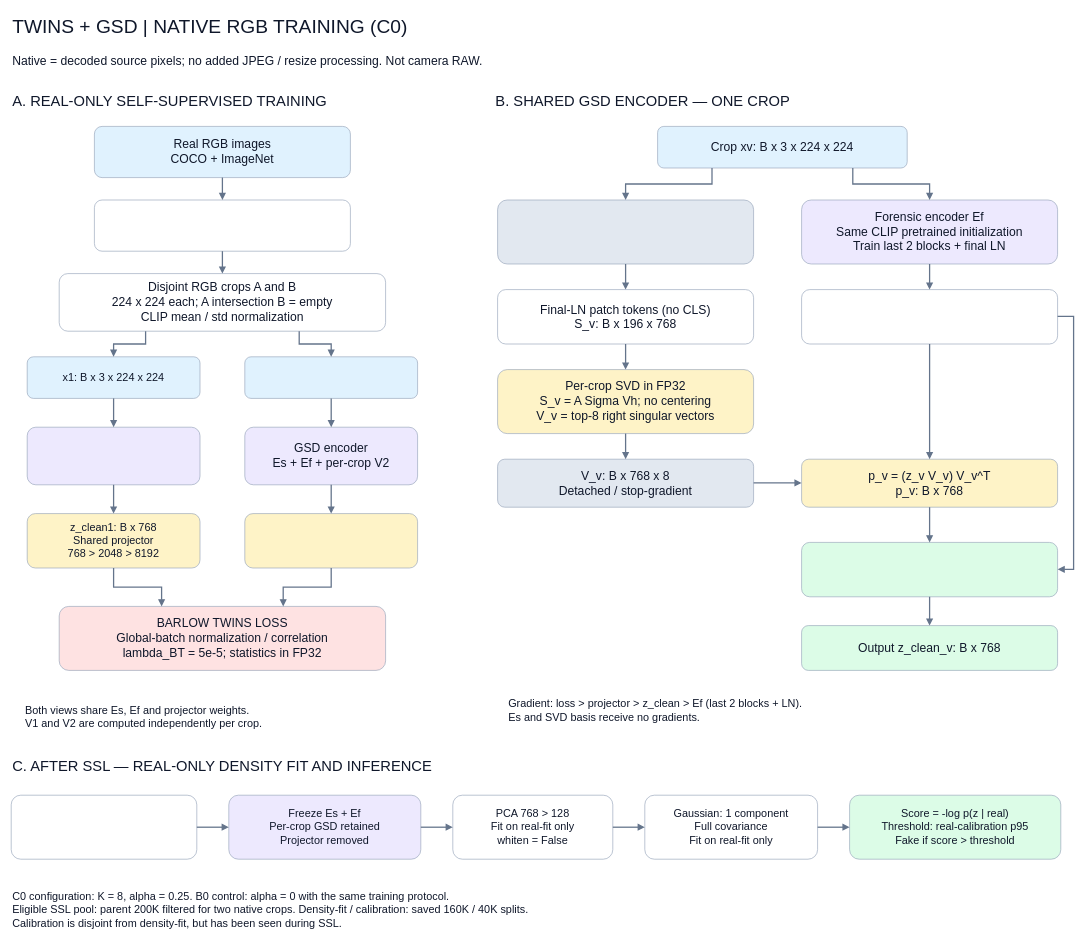
Image size: 1091x947. Some labels were removed from this diagram. Here are the shapes that lost their labels. From the top down, the centre of each, then its label:
point 222,225: Shared rotation / flips Native resolution retained
point 625,231: Semantic encoder Es CLIP ViT-B/16 Frozen / eval / no_grad
point 929,316: Final-LN CLS before visual projection z_v: B x 768
point 331,377: x2: B x 3 x 224 x 224
point 113,456: GSD encoder Es + Ef + per-crop V1
point 331,540: z_clean2: B x 768 Shared projector 768 > 2048 > 8192
point 929,569: Partial semantic suppression z_clean_v = z_v - 0.25 p_v
point 104,827: Native center crop 224 CLIP normalization Real-fit / calibration / test
